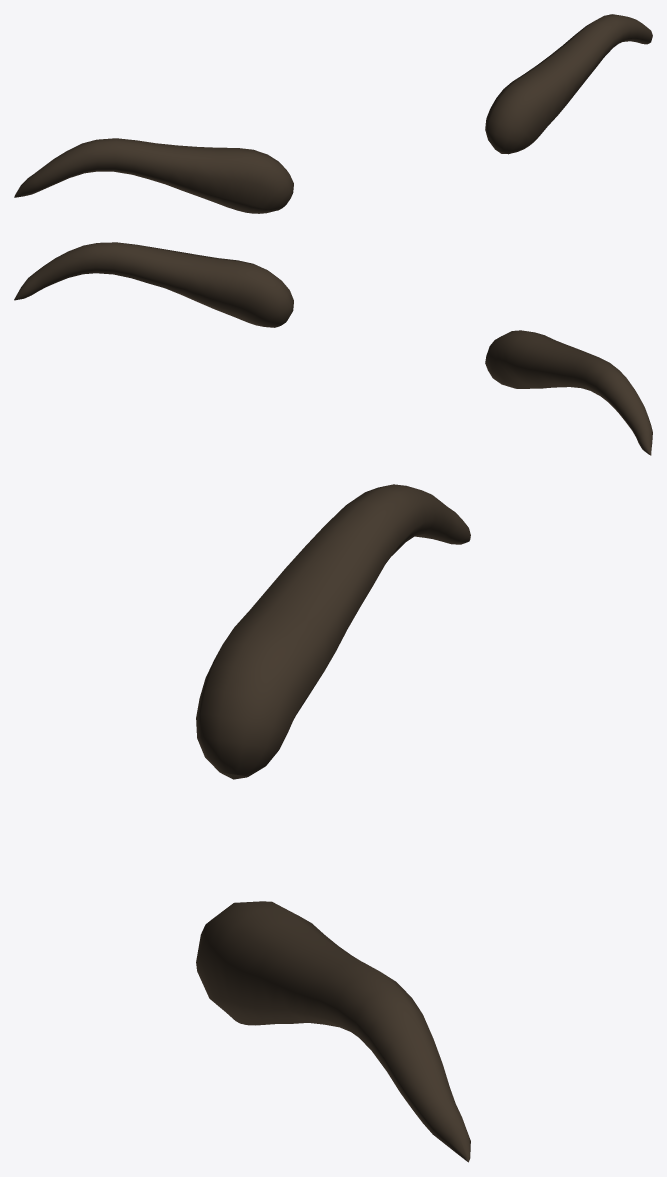
Rendered from eyebrow_03.glb.
3 renders of one model, top to bottom at view 1: azimuth 30°, elevation 25°; view 2: azimuth 150°, elevation 25°; view 3: azimuth 270°, elevation 25°, orthographic. The views are drawn at different scales.
Visible parts, largest first — view 1: s_shaped2, s_shaped1; view 2: s_shaped1, s_shaped2; view 3: s_shaped2, s_shaped1.
Part boxes in pixels (x1,y1,x2,y2): s_shaped2: [14, 138, 293, 213]; s_shaped1: [485, 14, 652, 154]; s_shaped1: [14, 242, 293, 327]; s_shaped2: [485, 330, 652, 455]; s_shaped2: [196, 484, 470, 779]; s_shaped1: [196, 901, 470, 1162].
Bounding box in the file's own units: 0.00573 × 0.000654 × 0.00107.
